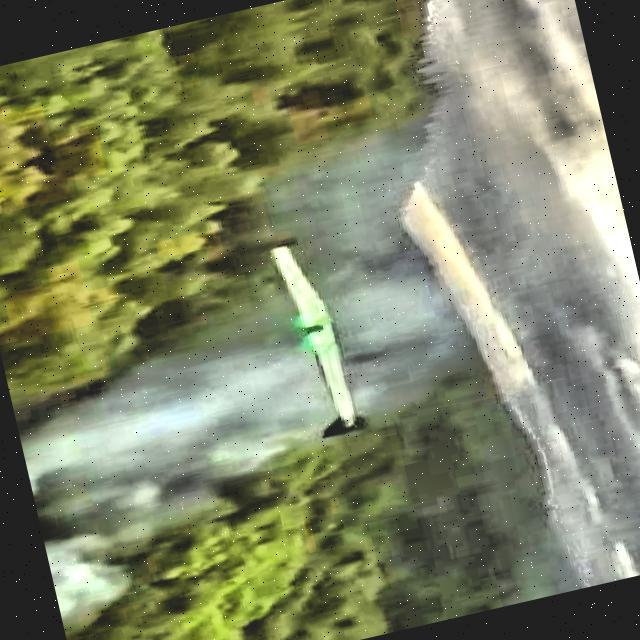iha: (248, 207, 380, 463)
